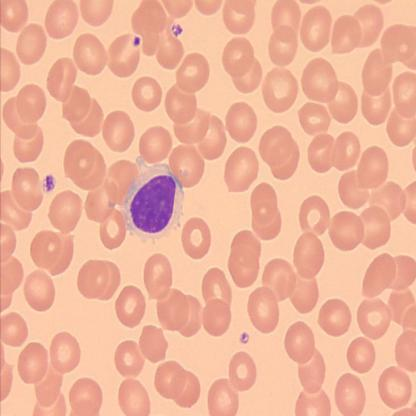Atypical lymphocyte: (126, 156, 184, 242)
